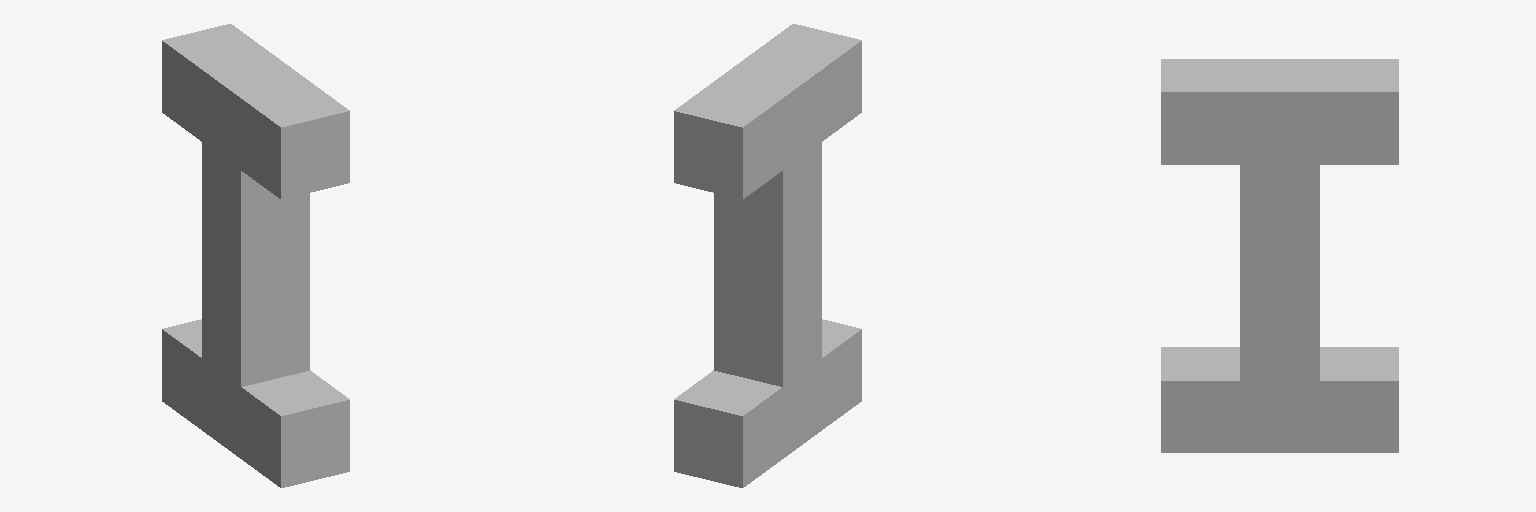
The model's file is character_i.obj.
The picture shows the model from 3 angles: view 1: azimuth 30°, elevation 25°; view 2: azimuth 150°, elevation 25°; view 3: azimuth 270°, elevation 25°; orthographic projection.
Visible parts, largest first — view 1: Cube.001; view 2: Cube.001; view 3: Cube.001.
Boxes of the visible parts, box(x1,y1,x2,y2) form: Cube.001: box(162, 24, 349, 487); Cube.001: box(674, 24, 861, 487); Cube.001: box(1161, 59, 1398, 452).
Bounding box in the file's own units: 6 × 30 × 18.